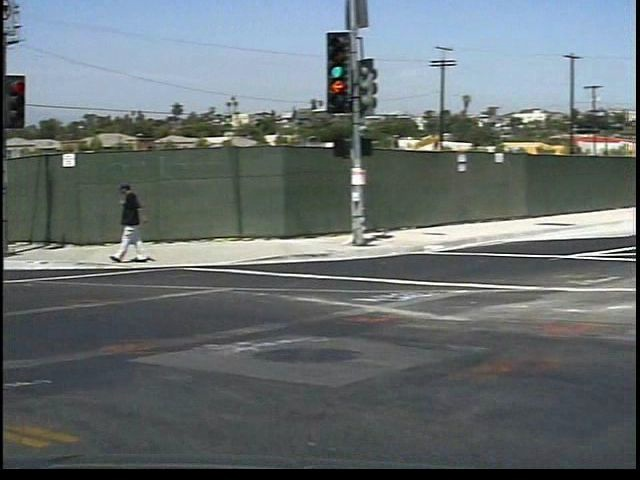person: (98, 178, 144, 277)
